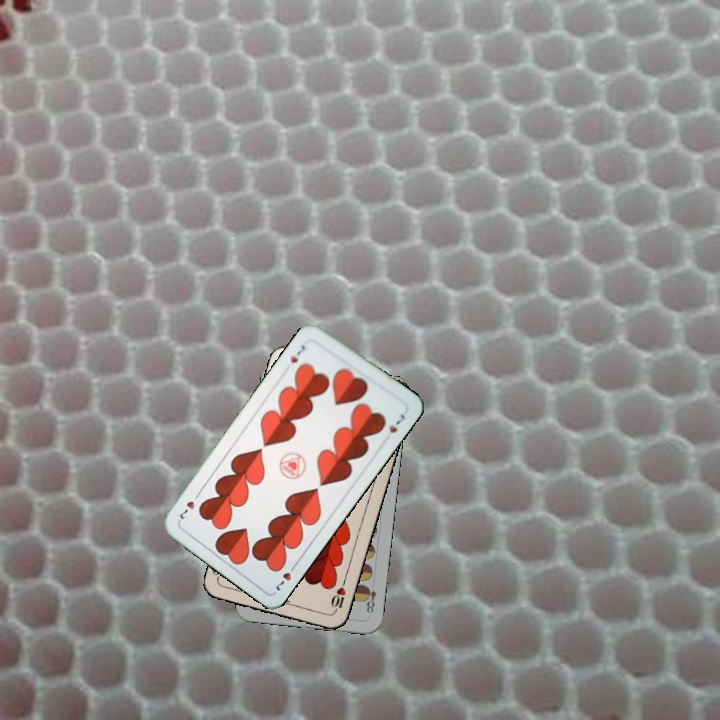E8: (361, 582, 379, 616)
H10: (327, 576, 348, 616)
H7: (272, 559, 300, 594), (286, 341, 308, 366)
